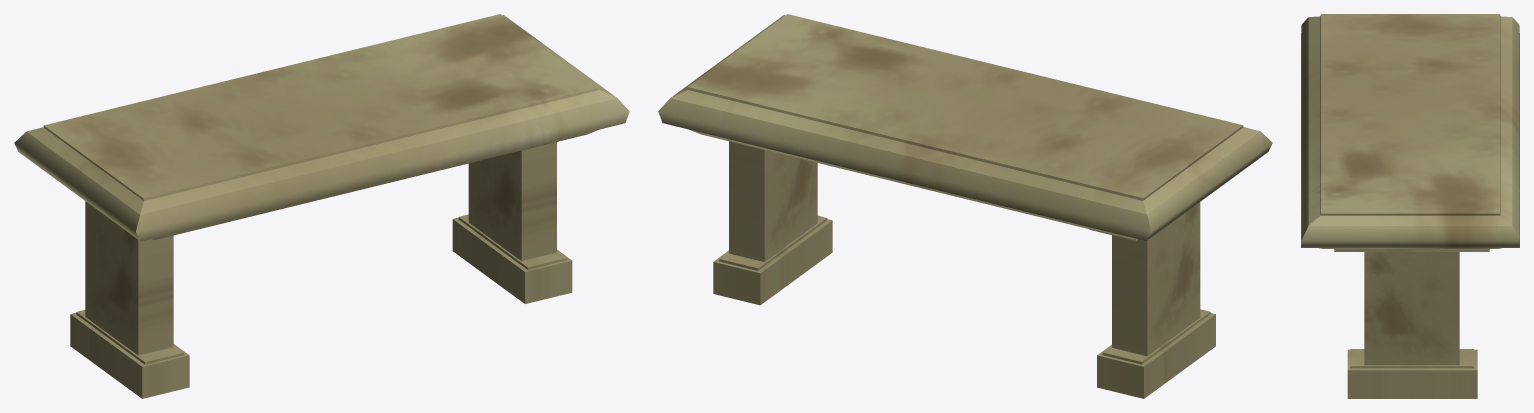
File: 3Dmodel_StoneBench_V1_BS.fbx
3 views of the same model, side by side, from view 1: azimuth 30°, elevation 25°; view 2: azimuth 150°, elevation 25°; view 3: azimuth 270°, elevation 25° (orthographic). The views are drawn at different scales.
Visible parts, largest first — view 1: StoneBench; view 2: StoneBench; view 3: StoneBench.
Boxes of the visible parts, x1,y1,x2,y2 form: StoneBench: (14, 14, 629, 398); StoneBench: (658, 14, 1272, 398); StoneBench: (1301, 14, 1519, 398).
Bounding box in the file's own units: 1.92 × 0.7942 × 0.8215.
Materials: 1 (1 with a texture image).
